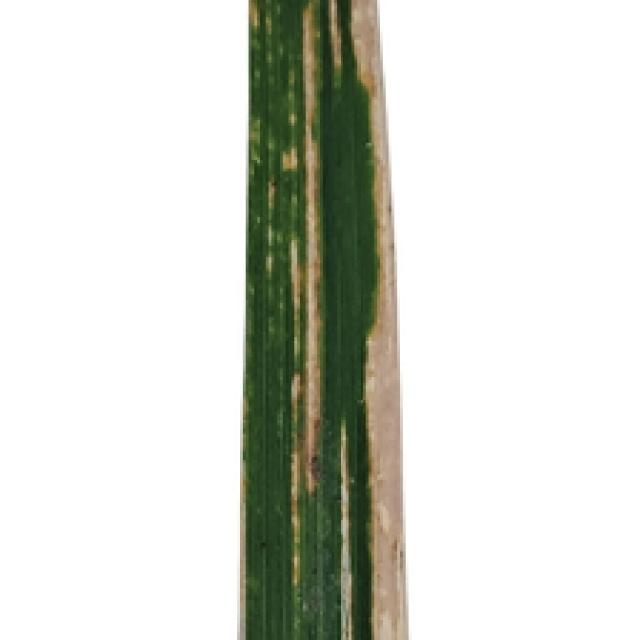Rice___Bacterial_Leaf_Blight: (237, 0, 413, 637)
